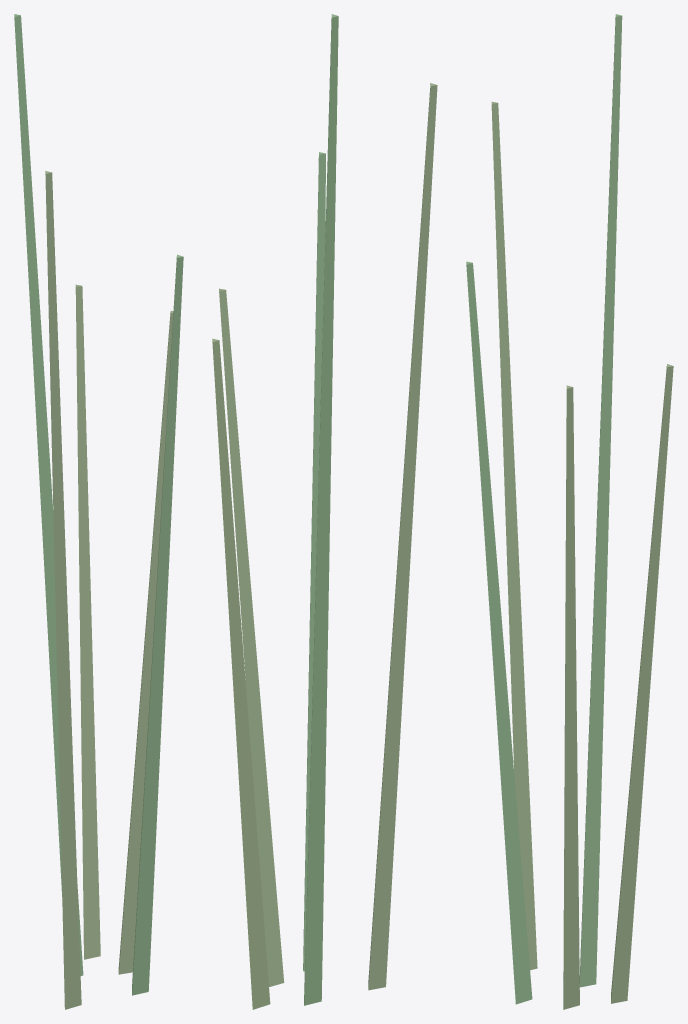
Rendered from reed_v04.glb.
The picture shows the model from 3 angles, left to right: view 1: azimuth 30°, elevation 25°; view 2: azimuth 150°, elevation 25°; view 3: azimuth 270°, elevation 25°; orthographic projection. The views are drawn at different scales.
Visible parts, largest first — view 1: lod0; view 2: lod0; view 3: lod0.
Boxes of the visible parts, x1,y1,x2,y2 form: lod0: (14, 14, 183, 1009); lod0: (212, 14, 437, 1009); lod0: (466, 14, 673, 1009).
Size of what is drawn, in the model's own units: 0.3499 by 1.89 by 0.3734.
